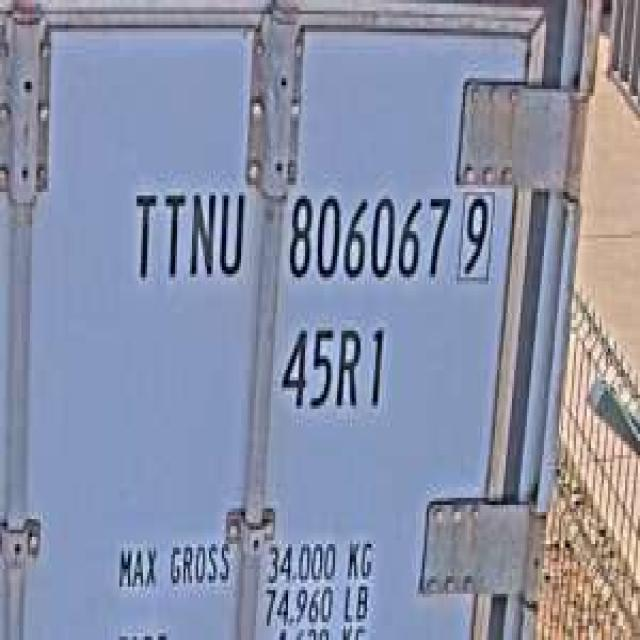dv: (452, 181, 497, 288)
owner: (126, 170, 249, 292)
serial: (284, 178, 452, 292)
size: (276, 310, 390, 420)
